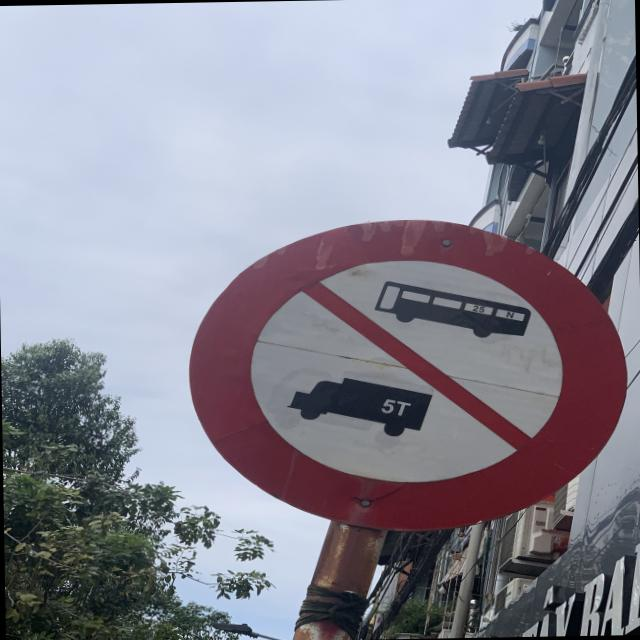Cam_XeTai_XeKhach: (184, 210, 636, 540)
